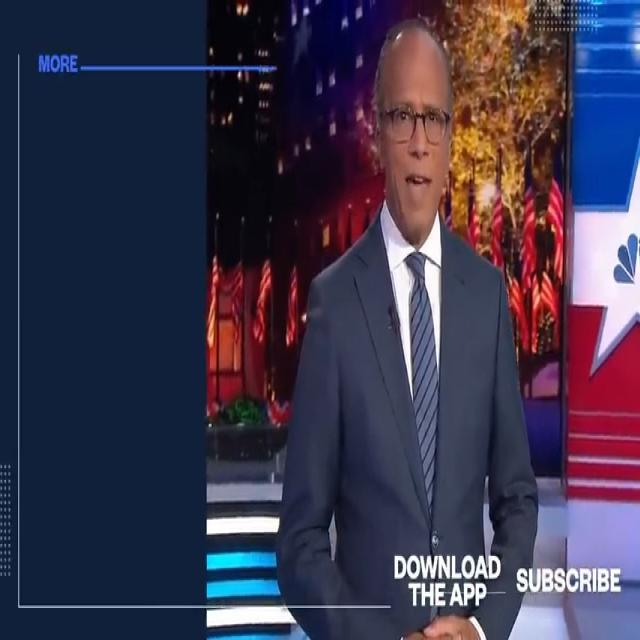non-fight: (272, 12, 542, 640)
